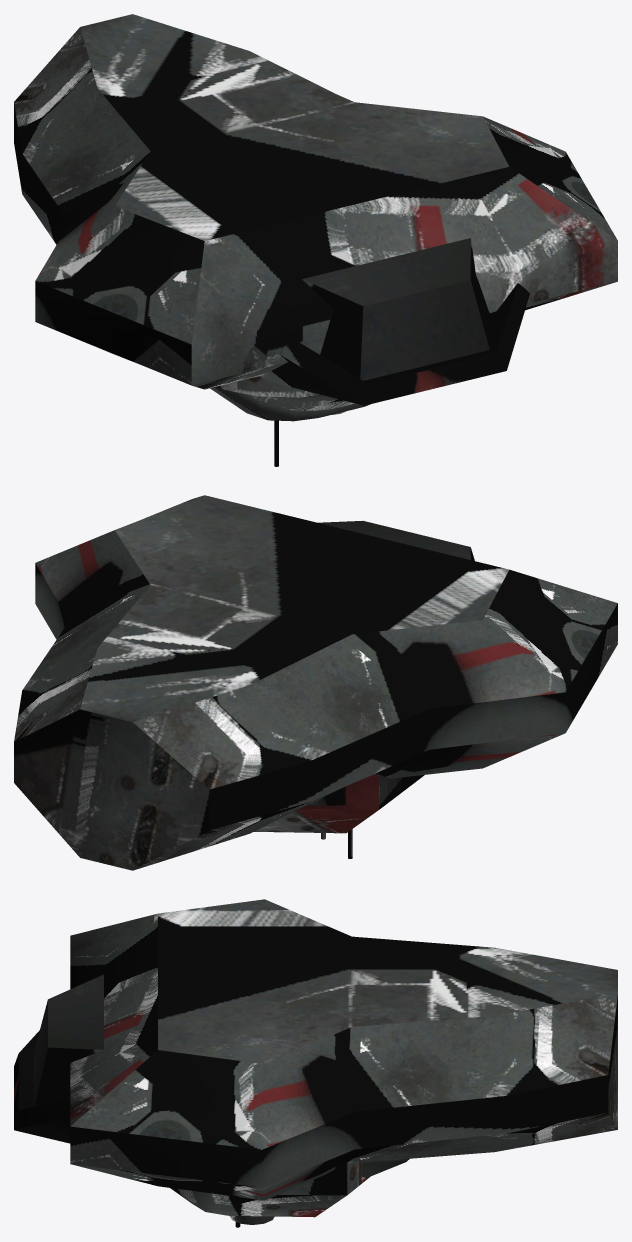
The model's file is TypeI.fbx.
3 renders of one model, top to bottom at view 1: azimuth 30°, elevation 25°; view 2: azimuth 150°, elevation 25°; view 3: azimuth 270°, elevation 25°, orthographic. The views are drawn at different scales.
Parts seen in each view (by area): view 1: PipelineFBX; view 2: PipelineFBX; view 3: PipelineFBX.
Part boxes in pixels (x1,y1,x2,y2): PipelineFBX: [14, 14, 617, 466]; PipelineFBX: [14, 495, 617, 870]; PipelineFBX: [14, 899, 617, 1227].
Bounding box in the file's own units: 55.66 × 28.56 × 59.8.
1 material, 1 textured.
